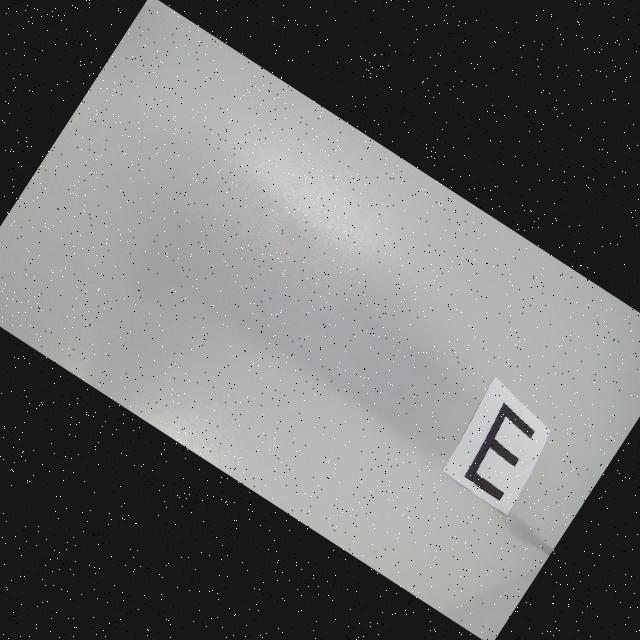FAKE: (456, 402, 546, 502)
